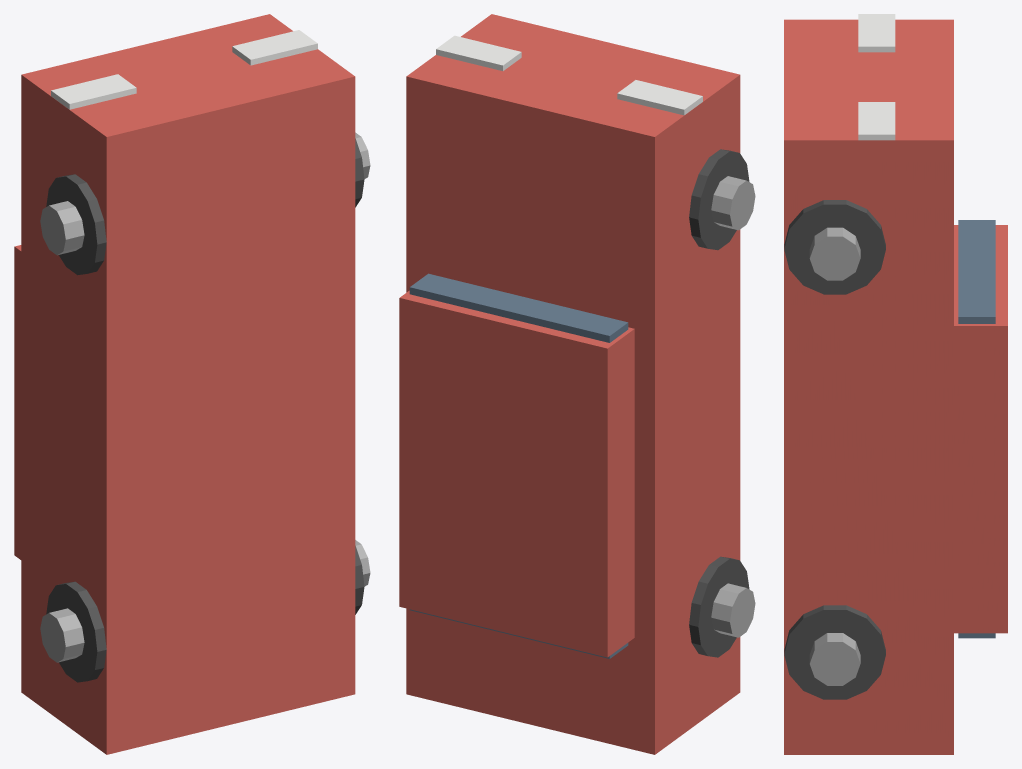
Rendered from sports_coupe.glb.
3 views of the same model, side by side, from view 1: azimuth 30°, elevation 25°; view 2: azimuth 150°, elevation 25°; view 3: azimuth 270°, elevation 25° (orthographic).
Visible parts, largest first — view 1: body, wheel_-1_1, wheel_-1_-1, cabin, hub_-1_-1, hub_-1_1, headlamp_r, headlamp_l; view 2: body, cabin, glass_f, wheel_-1_1, wheel_-1_-1, hub_-1_1, hub_-1_-1, headlamp_r, headlamp_l; view 3: body, cabin, wheel_1_1, wheel_1_-1, glass_f, hub_1_1, hub_1_-1, headlamp_l, headlamp_r.
Boxes of the visible parts, x1,y1,x2,y2 form: body: (21, 14, 355, 754); wheel_-1_1: (46, 174, 106, 275); wheel_-1_-1: (46, 581, 106, 682); cabin: (14, 245, 21, 559); hub_-1_-1: (40, 608, 84, 662); hub_-1_1: (40, 201, 84, 255); headlamp_r: (232, 30, 317, 65); headlamp_l: (51, 74, 136, 109); body: (406, 14, 740, 754); cabin: (399, 290, 634, 657); glass_f: (409, 273, 628, 342); wheel_-1_1: (689, 149, 749, 250); wheel_-1_-1: (689, 556, 749, 657); hub_-1_1: (711, 176, 755, 230); hub_-1_-1: (711, 583, 755, 637); headlamp_r: (436, 35, 521, 70); headlamp_l: (617, 80, 702, 115); body: (784, 19, 953, 754); cabin: (954, 225, 1007, 633); wheel_1_1: (784, 200, 885, 294); wheel_1_-1: (784, 605, 885, 699); glass_f: (958, 220, 995, 323); hub_1_1: (809, 227, 860, 280); hub_1_-1: (809, 633, 860, 685); headlamp_l: (858, 14, 895, 52); headlamp_r: (858, 102, 895, 140).
Size of the model in its own units: 2.27 by 4.48 by 1.45.
